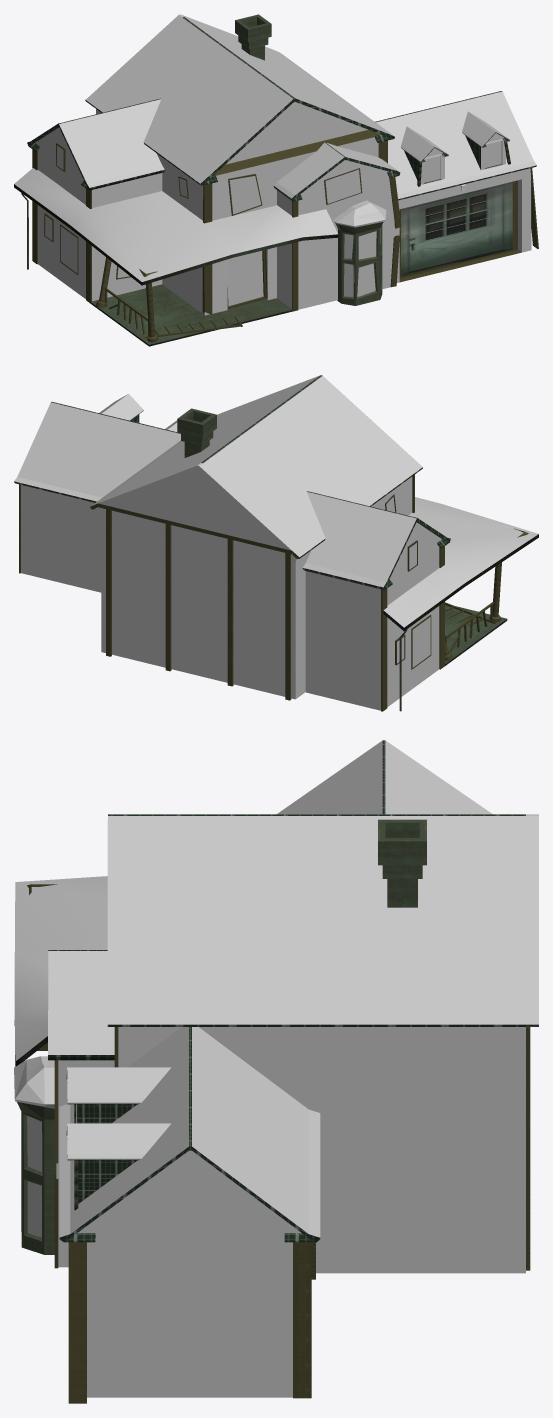
Rendered from SunkenTownHouse4.fbx.
The picture shows the model from 3 angles, top to bottom: view 1: azimuth 30°, elevation 25°; view 2: azimuth 150°, elevation 25°; view 3: azimuth 270°, elevation 25°; orthographic projection. The views are drawn at different scales.
Parts seen in each view (by area): view 1: House.392, House.373, House.362, House.395, House.345, House.380, House.406, House.423, House.411, House.369, House.407, House.436 (+20 smaller); view 2: House.392, House.346, House.422, House.373, House.347, House.405, House.411, House.423, House.447, House.367, House.365, House.366 (+8 smaller); view 3: House.392, House.351, House.346, House.373, House.345, House.375, House.369, House.405, House.406, House.447, House.464, House.450 (+10 smaller).
Boxes of the visible parts, bbox=[...] form: House.392: bbox=[85, 14, 394, 315]; House.373: bbox=[14, 168, 338, 285]; House.362: bbox=[394, 168, 530, 282]; House.395: bbox=[205, 102, 380, 315]; House.345: bbox=[376, 91, 536, 198]; House.380: bbox=[298, 160, 394, 309]; House.406: bbox=[59, 99, 164, 187]; House.423: bbox=[91, 284, 292, 346]; House.411: bbox=[35, 127, 85, 298]; House.369: bbox=[337, 225, 382, 305]; House.407: bbox=[92, 173, 162, 301]; House.436: bbox=[227, 250, 263, 306]; House.392: bbox=[90, 375, 422, 699]; House.346: bbox=[14, 402, 180, 501]; House.422: bbox=[305, 571, 380, 710]; House.373: bbox=[383, 497, 538, 630]; House.347: bbox=[21, 485, 101, 592]; House.405: bbox=[303, 492, 416, 587]; House.411: bbox=[387, 522, 441, 706]; House.423: bbox=[445, 605, 507, 665]; House.447: bbox=[177, 408, 216, 457]; House.367: bbox=[227, 539, 233, 686]; House.365: bbox=[165, 524, 171, 671]; House.366: bbox=[285, 553, 291, 700]; House.392: bbox=[107, 814, 538, 1273]; House.351: bbox=[77, 1150, 301, 1397]; House.346: bbox=[192, 1027, 320, 1237]; House.373: bbox=[14, 876, 107, 1066]; House.345: bbox=[59, 1027, 188, 1237]; House.375: bbox=[48, 951, 114, 1054]; House.369: bbox=[21, 1112, 56, 1254]; House.405: bbox=[385, 740, 492, 814]; House.406: bbox=[276, 740, 382, 814]; House.447: bbox=[378, 819, 426, 907]; House.464: bbox=[67, 1123, 171, 1159]; House.450: bbox=[67, 1067, 171, 1103].
Size of the model in its own units: 358 by 174 by 210.
